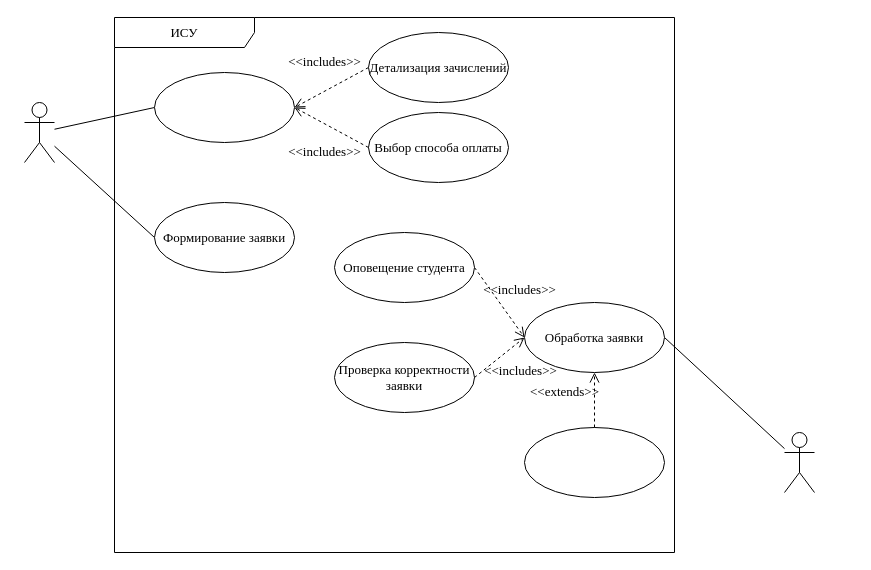
Some shapes in this 871 by 570 pixel diagram are drawn without their labels. Here are the shapes that lost their labels. From the top down, the centre of each, then its label:
the point at 224,107: Оплата по договору
the point at 39,132: Студент
the point at 594,462: Делегирование заявки ответственному подразделению
the point at 799,462: Студенческий офис
